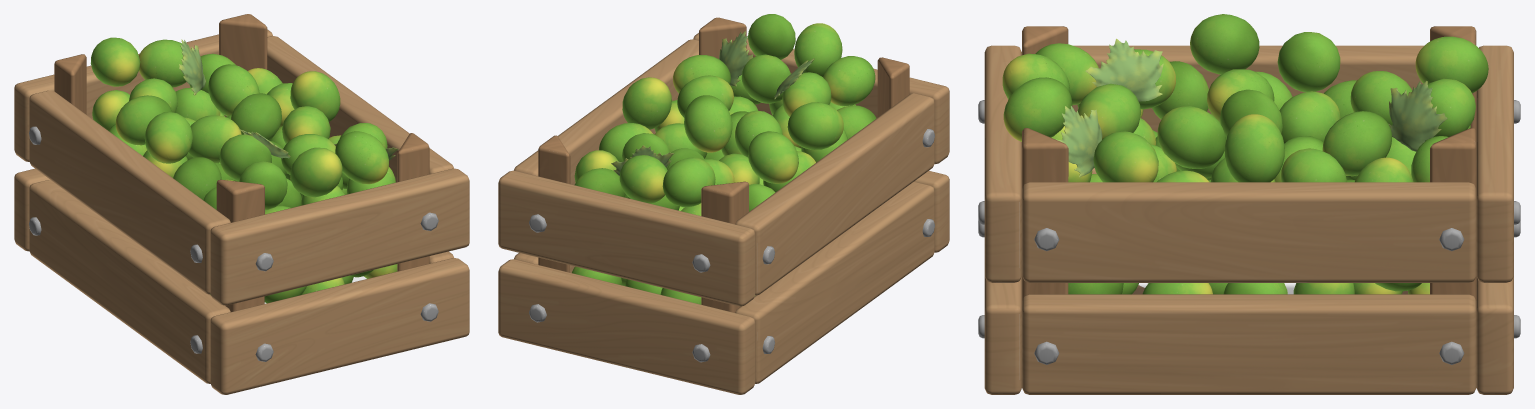
The model's file is grape fill box.fbx.
3 renders of one model, left to right at view 1: azimuth 30°, elevation 25°; view 2: azimuth 150°, elevation 25°; view 3: azimuth 270°, elevation 25°, orthographic. The views are drawn at different scales.
Visible parts, largest first — view 1: IchigoAme_GrapeBox, grapesone_low.101, grapesone_low.062, grapesone_low.045, grapesone_low.026, grapesone_low.081, grapesone_low.098, grapesone_low.007, grapesone_low.011, grapesone_low.009, grapesone_low.008, grapesone_low.048 (+13 smaller); view 2: IchigoAme_GrapeBox, grapesone_low.007, grapesone_low.045, grapesone_low.009, grapesone_low.098, grapesone_low.040, grapesone_low.026, grapesone_low.062, grapesone_low.011, grapesone_low.064, grapesone_low.101, grapesone_low.048 (+17 smaller); view 3: IchigoAme_GrapeBox, grapesone_low.098, grapesone_low.060, grapesone_low.045, grapesone_low.101, grapesone_low.081, grapesone_low.009, grapesone_low.026, grapesone_low.094, grapeleaf_low, grapeleaf_low.001, grapesone_low.029 (+22 smaller).
Part boxes in pixels (left/top/right/bottom): IchigoAme_GrapeBox: left=14, top=14, right=469, bottom=394; grapesone_low.101: left=335, top=131, right=388, bottom=184; grapesone_low.062: left=290, top=147, right=342, bottom=197; grapesone_low.045: left=144, top=112, right=192, bottom=163; grapesone_low.026: left=90, top=37, right=140, bottom=86; grapesone_low.081: left=208, top=64, right=259, bottom=116; grapesone_low.098: left=290, top=71, right=340, bottom=121; grapesone_low.007: left=231, top=93, right=281, bottom=140; grapesone_low.011: left=139, top=39, right=186, bottom=87; grapesone_low.009: left=115, top=95, right=171, bottom=145; grapesone_low.008: left=188, top=115, right=241, bottom=163; grapesone_low.048: left=219, top=134, right=271, bottom=181; IchigoAme_GrapeBox: left=498, top=17, right=949, bottom=394; grapesone_low.007: left=684, top=95, right=732, bottom=152; grapesone_low.045: left=787, top=102, right=843, bottom=149; grapesone_low.009: left=748, top=131, right=798, bottom=183; grapesone_low.098: left=622, top=77, right=671, bottom=129; grapesone_low.040: left=823, top=56, right=875, bottom=106; grapesone_low.026: left=662, top=157, right=715, bottom=207; grapesone_low.062: left=794, top=23, right=842, bottom=76; grapesone_low.011: left=619, top=155, right=667, bottom=203; grapesone_low.064: left=741, top=54, right=790, bottom=103; grapesone_low.101: left=748, top=14, right=795, bottom=59; grapesone_low.048: left=782, top=72, right=831, bottom=116; IchigoAme_GrapeBox: left=978, top=26, right=1520, bottom=394; grapesone_low.098: left=1224, top=114, right=1284, bottom=182; grapesone_low.060: left=1157, top=106, right=1225, bottom=168; grapesone_low.045: left=1190, top=14, right=1259, bottom=74; grapesone_low.101: left=1003, top=77, right=1072, bottom=141; grapesone_low.081: left=1322, top=111, right=1391, bottom=176; grapesone_low.009: left=1277, top=32, right=1340, bottom=91; grapesone_low.026: left=1415, top=36, right=1488, bottom=93; grapesone_low.094: left=1093, top=131, right=1158, bottom=182; grapeleaf_low: left=1085, top=38, right=1163, bottom=101; grapeleaf_low.001: left=1388, top=81, right=1447, bottom=151; grapesone_low.029: left=1279, top=91, right=1340, bottom=143.
Bounding box in the file's own units: 516 × 399 × 749.
